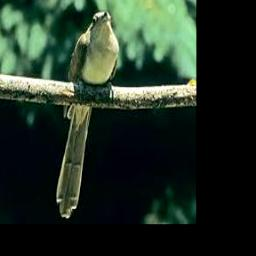Cuckoo: (56, 12, 120, 218)
